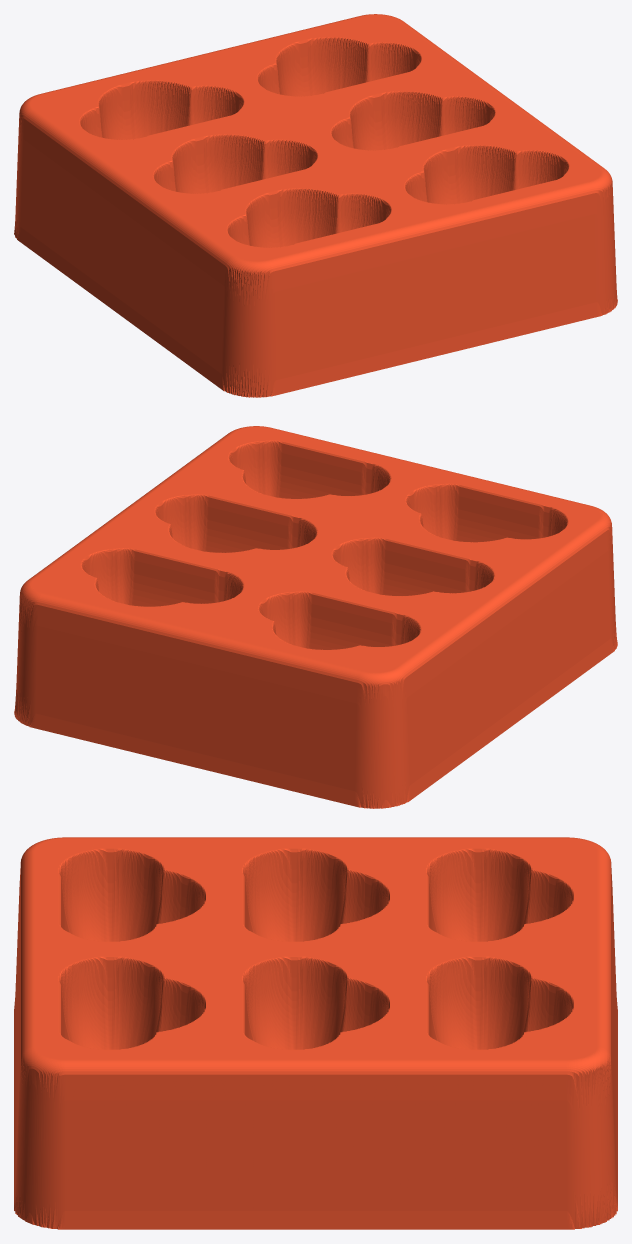
The model's file is mold.glb.
3 views of the same model, one above another, from view 1: azimuth 30°, elevation 25°; view 2: azimuth 150°, elevation 25°; view 3: azimuth 270°, elevation 25° (orthographic). The views are drawn at different scales.
Visible parts, largest first — view 1: geometry_0; view 2: geometry_0; view 3: geometry_0.
Part boxes in pixels (left/top/right/bottom): geometry_0: left=14, top=14, right=617, bottom=397; geometry_0: left=14, top=426, right=617, bottom=808; geometry_0: left=14, top=837, right=617, bottom=1229.
Size of the model in its own units: 0.0996 by 0.0314 by 0.1066.
